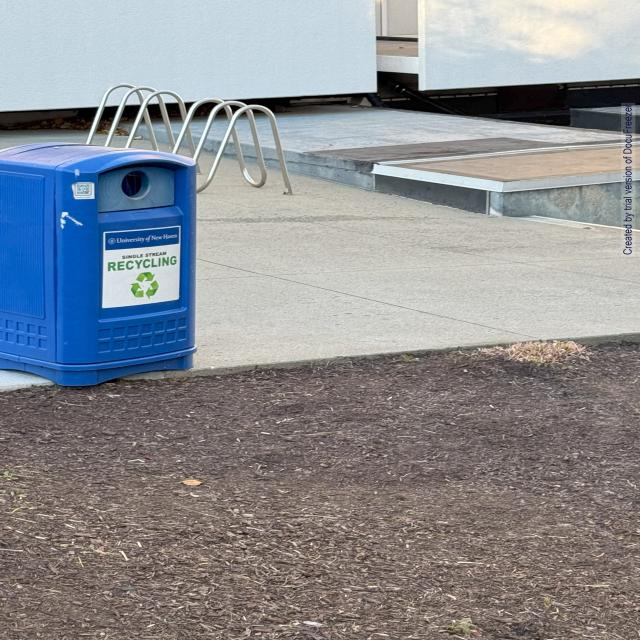Trash bin: (0, 123, 223, 400)
